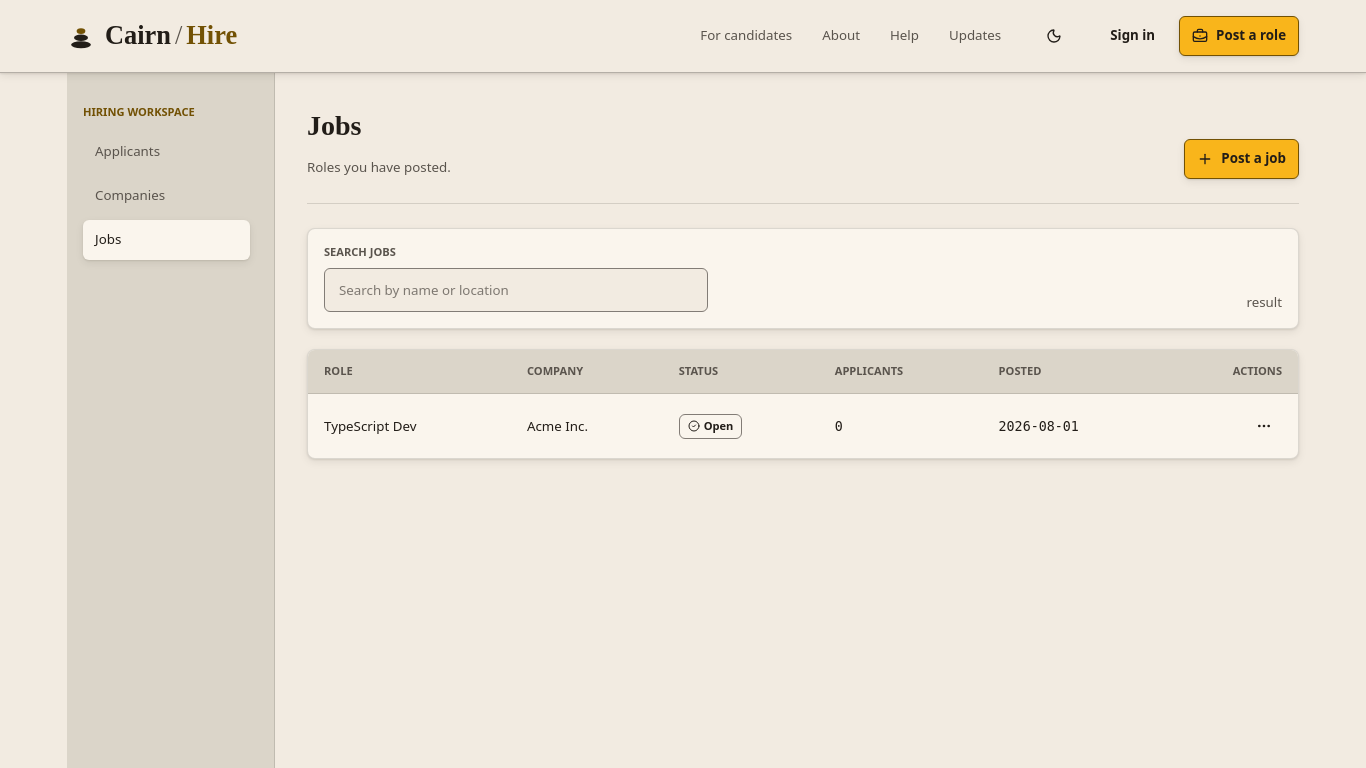
it: the job lifecycle in the workspace › shows an open role's status and offers Close
Click the button named "Actions for TypeScript Dev": (1264, 426) [1246,408,1282,444]
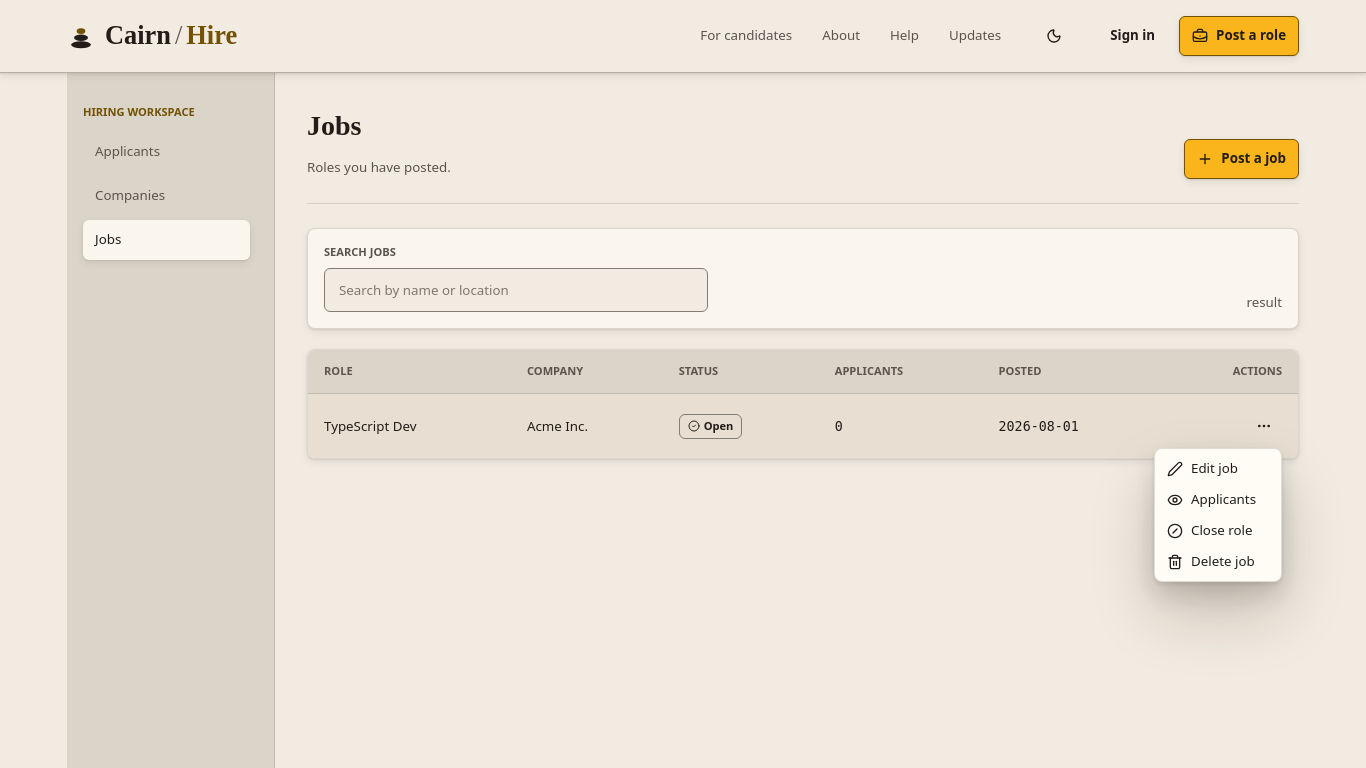
expect the menu item "Close role" is shown: met, box [1167,521,1252,539]
